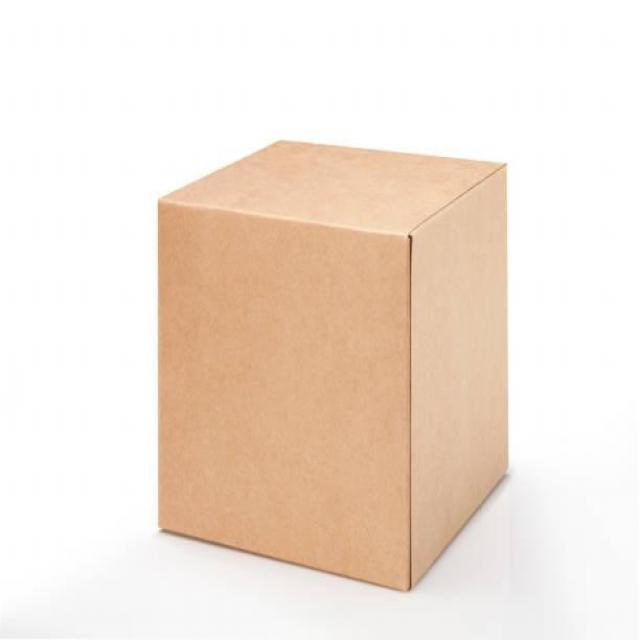box: (131, 127, 528, 591)
